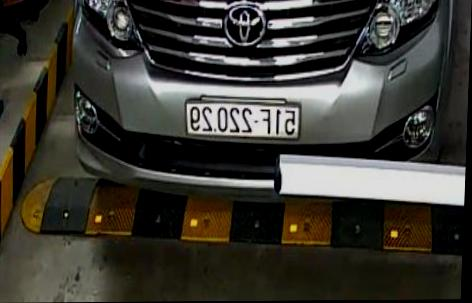License_Plate: (183, 99, 303, 138)
